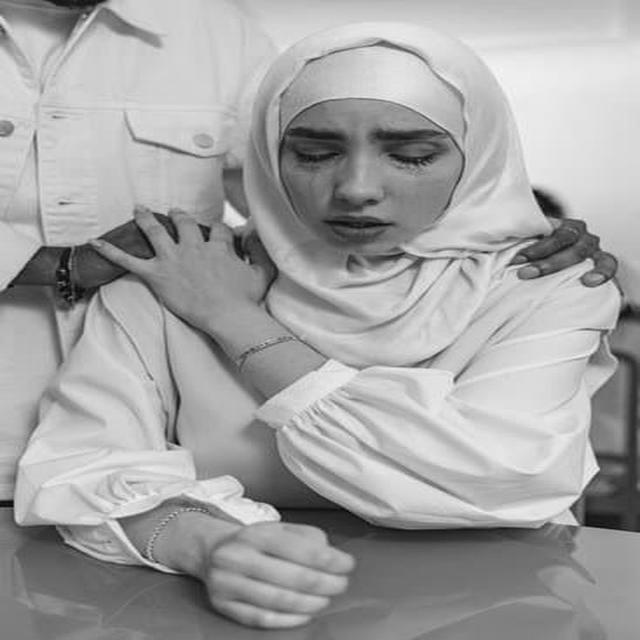Sadness: (284, 103, 462, 250)
